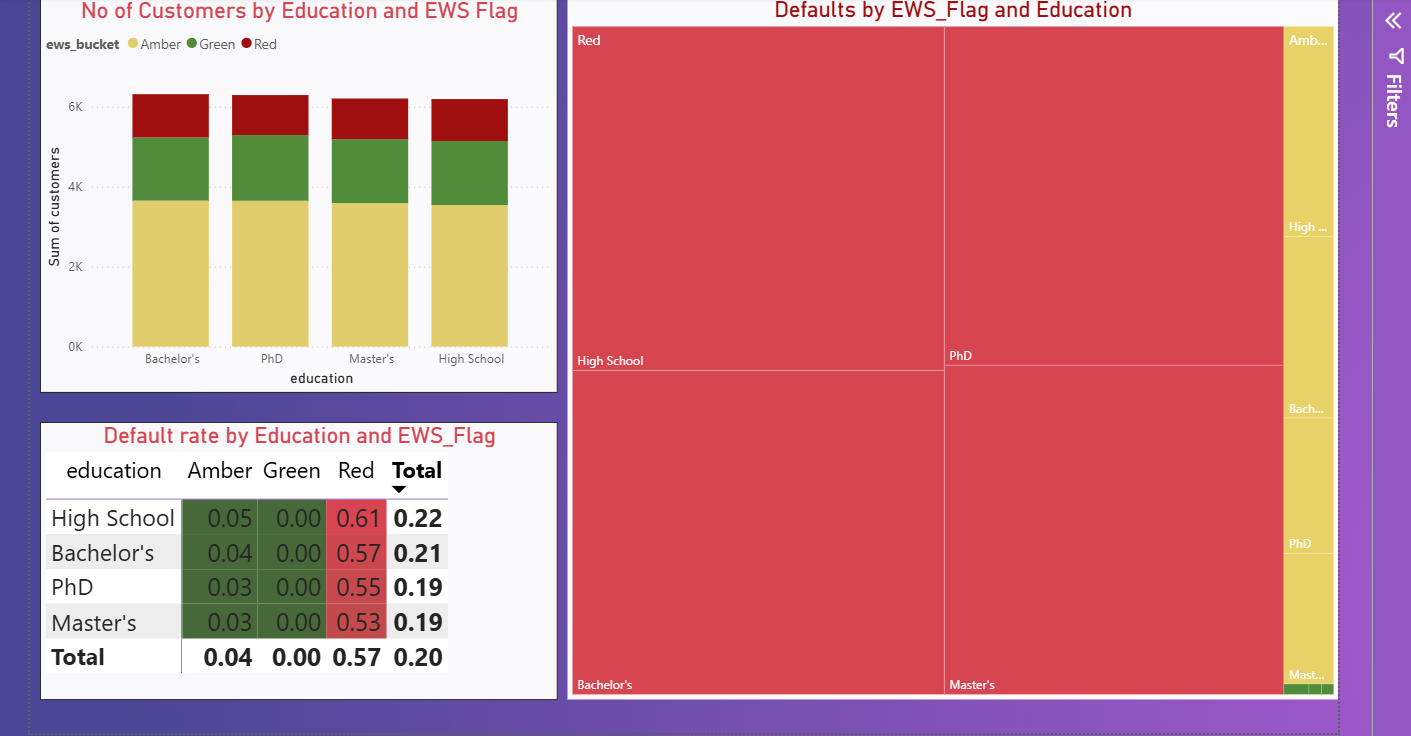

The page's visual inventory and layout, read from the dashboard file:
{"tool":"powerbi","page":{"name":"Education and Warning Flag Analysis","canvas":[1280,720],"ordinal":1},"visuals":[{"type":"columnChart","title":"No of Customers by Education and EWS Flag","fields":{"Category":["Query3.education"],"Y":["Sum(Query3.customers)"],"Series":["Query3.ews_bucket"]},"box":[9.6,0,506.3,387],"z":0},{"type":"pivotTable","title":"Default rate by Education and EWS_Flag","fields":{"Rows":["Query3.education"],"Columns":["Query3.ews_bucket"],"Values":["Avg(Query3.default_rate)"]},"box":[9.6,415.8,506.3,271.7],"z":1000},{"type":"treemap","title":"Defaults by  EWS_Flag and Education","fields":{"Details":["Query3.education"],"Group":["Query3.ews_bucket"],"Values":["Avg(Query3.default_rate)"]},"box":[525.6,0,754.7,687.5],"z":2000}]}

Visuals, with their boxes in screenshot pixels (x1, y1, x2, y2):
"No of Customers by Education and EWS Flag" columnChart: (left=50, top=0, right=560, bottom=390)
"Default rate by Education and EWS_Flag" pivotTable: (left=50, top=419, right=560, bottom=692)
"Defaults by  EWS_Flag and Education" treemap: (left=569, top=0, right=1329, bottom=692)
